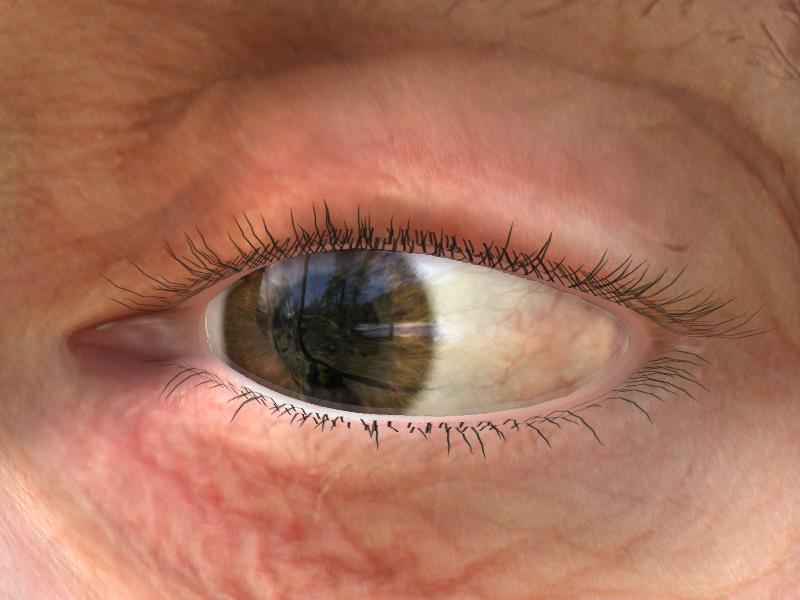eye: (223, 249, 438, 415)
